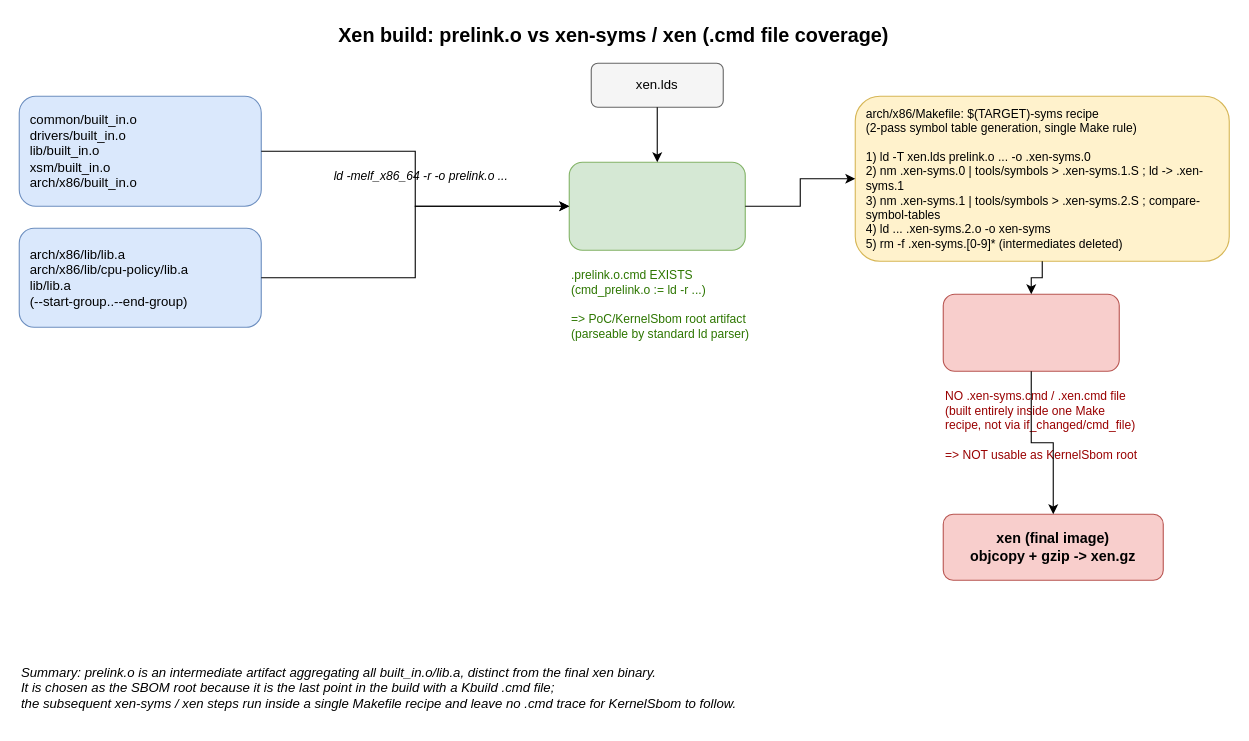
Some shapes in this 1249 by 741 pixel diagram are drawn without their labels. Here are the shapes that lost their labels. From the top down, the centre of each, then its label:
At (656,205): "prelink.o".
At (1030,332): "xen-syms".
